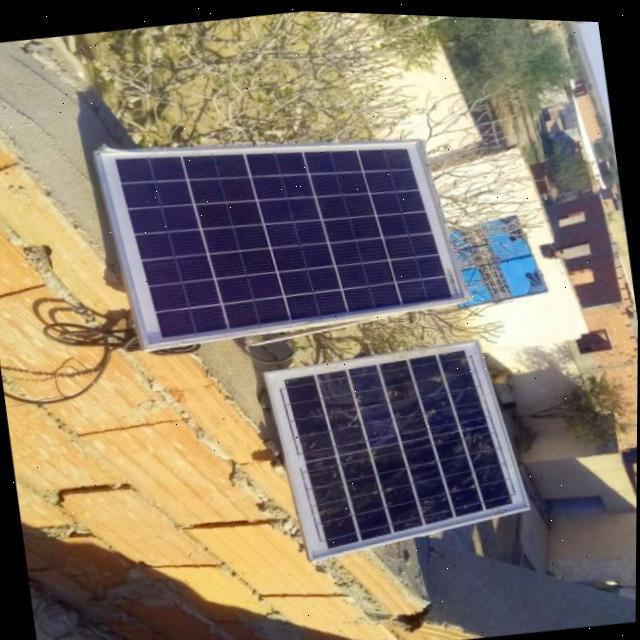Normal Solar Panel: (96, 102, 472, 360)
